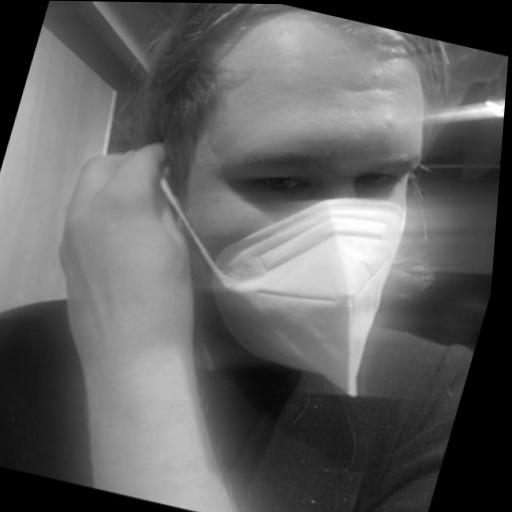mask: (115, 2, 493, 405)
